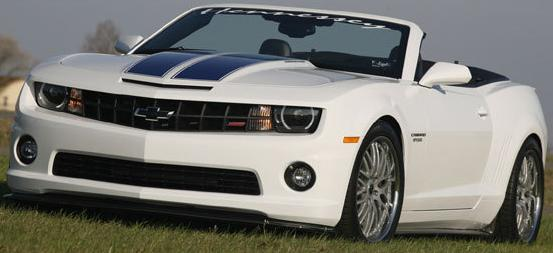front_view: (7, 62, 347, 230)
headlight: (250, 98, 329, 138)
